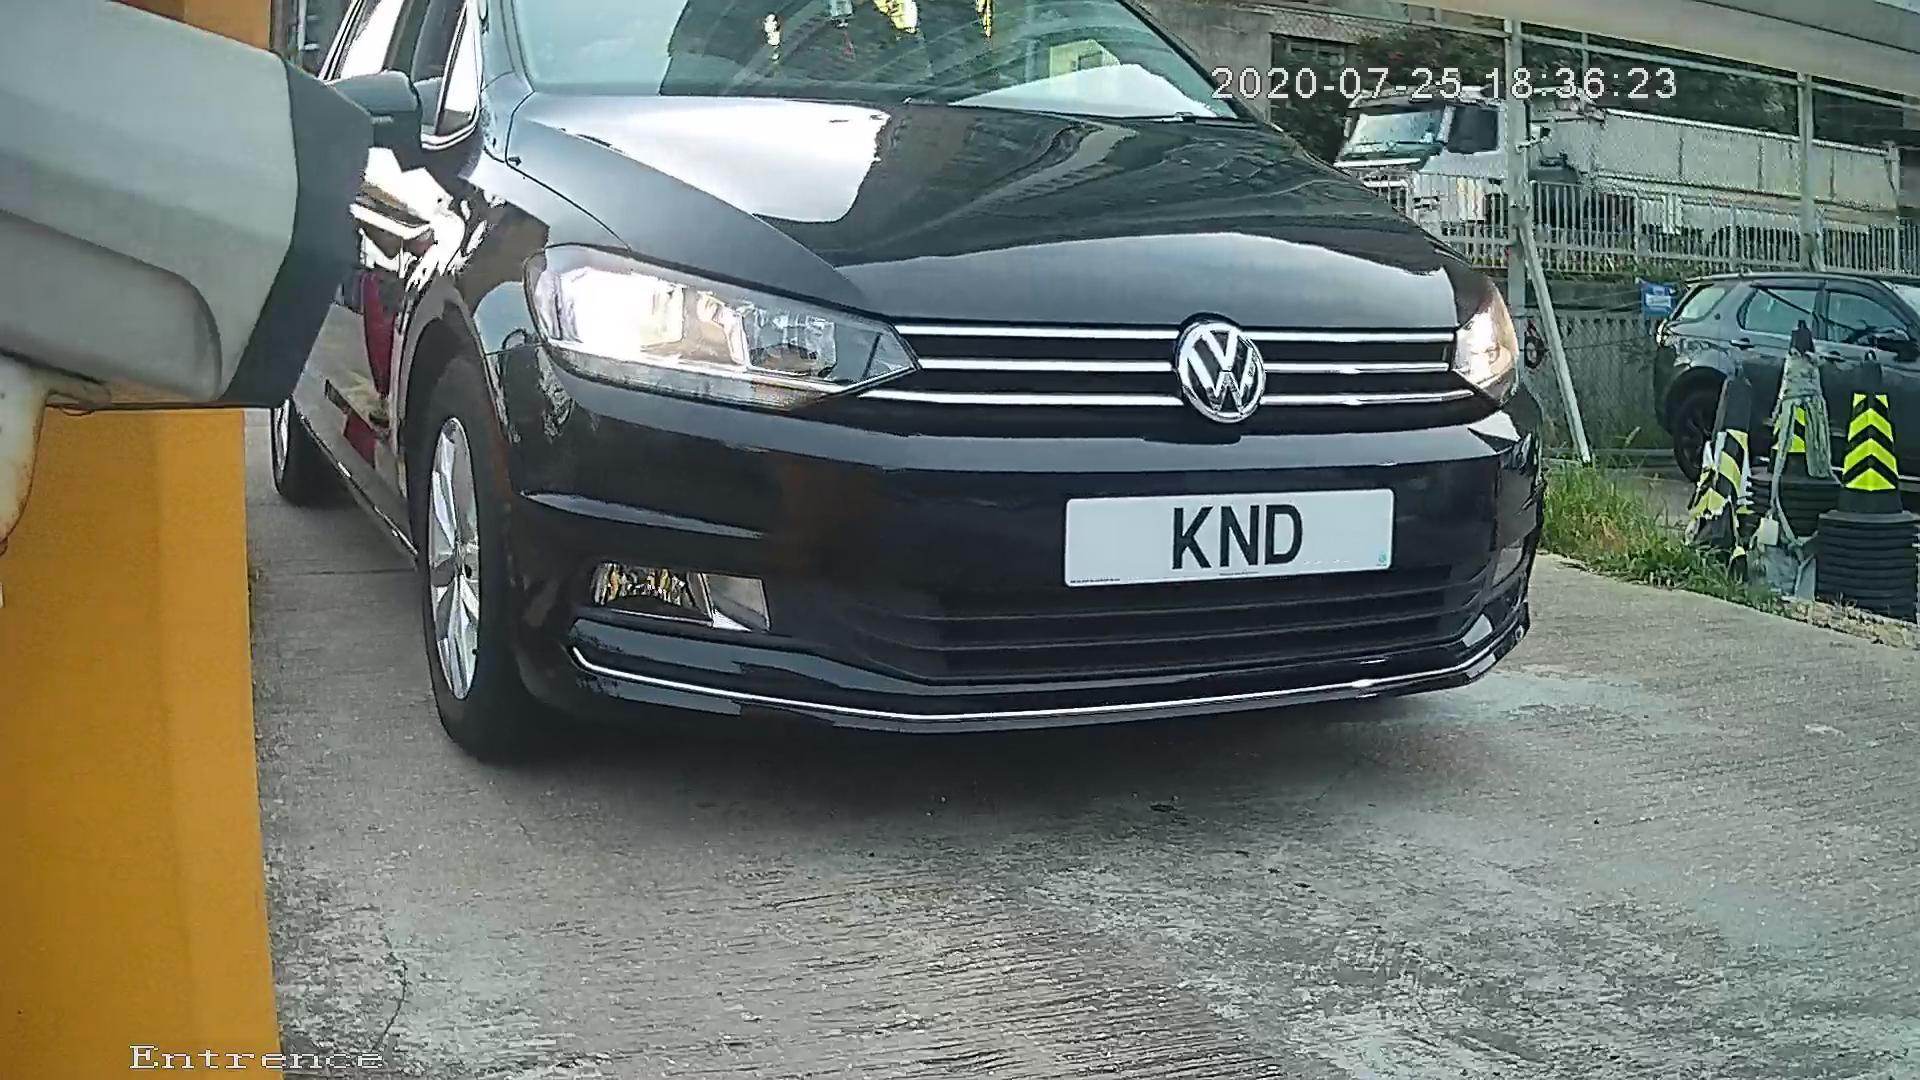privatecar: (189, 11, 1689, 800)
